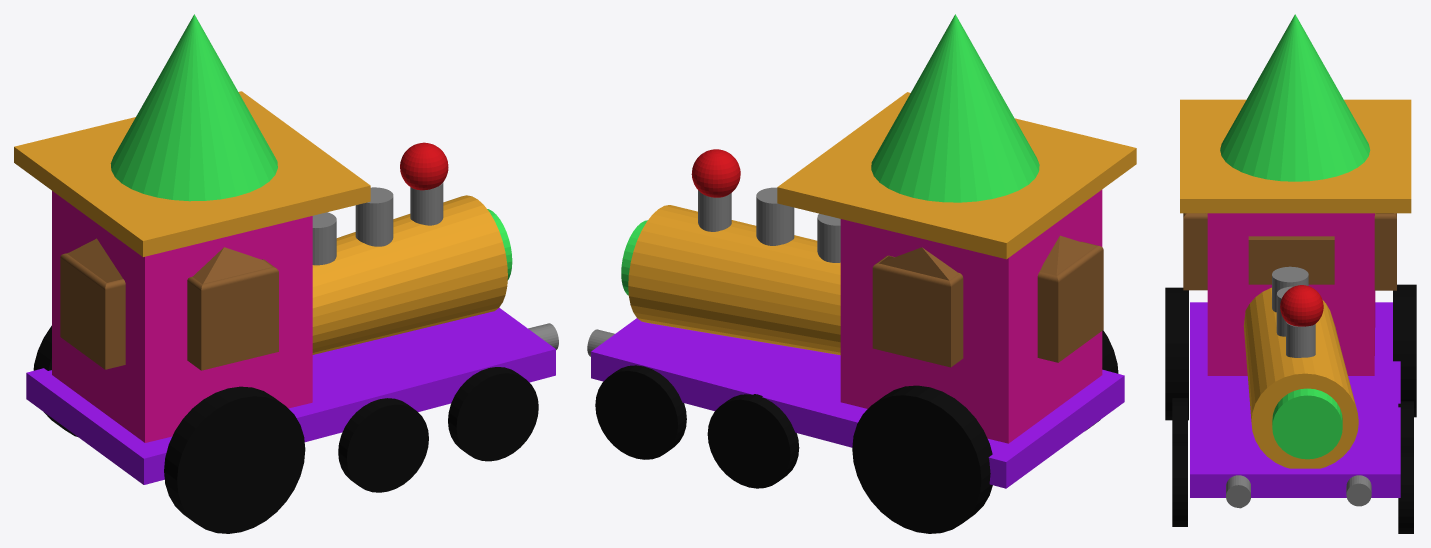
File: asset.glb
3 views of the same model, side by side, from view 1: azimuth 30°, elevation 25°; view 2: azimuth 150°, elevation 25°; view 3: azimuth 270°, elevation 25° (orthographic). The views are drawn at different scales.
Visible parts, largest first — view 1: cuerpo cubo, base, techo, cuerpo cilindro, Cone, llanta 1.1 der, ventana 1, ventana 3, llanta chica 3, llanta chica 4, humo 2, Sphere (+3 smaller); view 2: cuerpo cubo, cuerpo cilindro, base, techo, Cone, llanta 1, ventana 2, ventana 3, llanta chica 1, llanta chica 2, Sphere, humo 2 (+2 smaller); view 3: base, techo, cuerpo cubo, Cone, cuerpo cilindro, Cylinder, Cube, llanta 1.1 der, llanta 1, ventana 1, ventana 2, Sphere (+9 smaller).
Part boxes in pixels (box(x1,y1,x2,y2)): cuerpo cubo: box(52, 191, 312, 442); base: box(26, 307, 555, 484); techo: box(14, 91, 370, 256); cuerpo cilindro: box(312, 195, 507, 354); Cone: box(110, 14, 277, 201); llanta 1.1 der: box(164, 386, 305, 533); ventana 1: box(187, 247, 278, 370); ventana 3: box(60, 238, 125, 369); llanta chica 3: box(448, 367, 538, 461); llanta chica 4: box(338, 398, 428, 492); humo 2: box(355, 187, 393, 246); Sphere: box(400, 142, 448, 190); cuerpo cubo: box(840, 189, 1102, 443); cuerpo cilindro: box(628, 205, 840, 355); base: box(591, 318, 1124, 488); techo: box(777, 92, 1136, 259); Cone: box(871, 14, 1039, 202); llanta 1: box(852, 385, 992, 533); ventana 2: box(872, 247, 963, 367); ventana 3: box(1037, 235, 1103, 362); llanta chica 1: box(707, 394, 799, 488); llanta chica 2: box(595, 365, 686, 459); Sphere: box(691, 149, 740, 197); humo 2: box(756, 187, 794, 245); base: box(1190, 302, 1400, 497); techo: box(1180, 99, 1411, 213); cuerpo cubo: box(1207, 213, 1375, 375); Cone: box(1220, 14, 1370, 181); cuerpo cilindro: box(1243, 287, 1358, 468); Cylinder: box(1272, 388, 1342, 459); Cube: box(1248, 236, 1334, 284); llanta 1.1 der: box(1165, 287, 1188, 420); llanta 1: box(1393, 284, 1416, 417); ventana 1: box(1183, 213, 1207, 290); ventana 2: box(1374, 213, 1396, 290); Sphere: box(1280, 285, 1323, 326).
Size of the model in its own units: 11.48 by 11.3 by 6.26.
